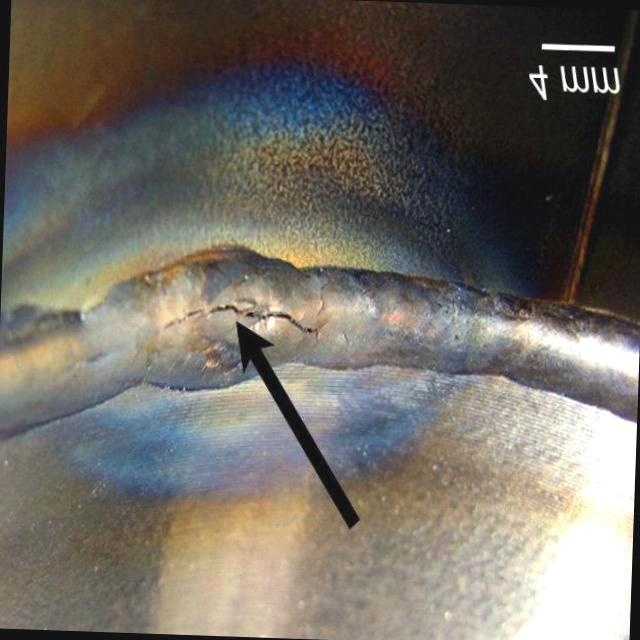defect: (160, 302, 324, 355)
